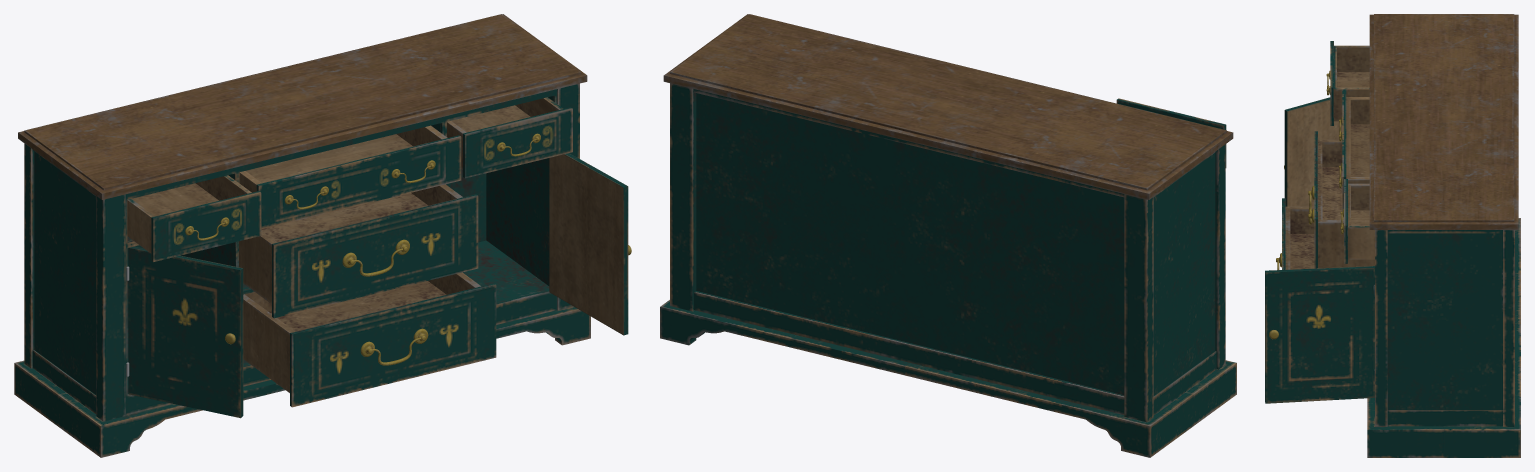
The model's file is antique_dresser.glb.
The picture shows the model from 3 angles, left to right: view 1: azimuth 30°, elevation 25°; view 2: azimuth 150°, elevation 25°; view 3: azimuth 270°, elevation 25°; orthographic projection. The views are drawn at different scales.
Visible parts, largest first — view 1: Base_low.001, Drawers_low.005, Drawers_low.003, knobs_low.001, Drawers_low.002, Cub_low.001, Bottom_low.001, Drawers_low.001, Drawers_low.004; view 2: Base_low.001, Bottom_low.001, Drawers_low.001; view 3: Base_low.001, Cub_low.001, Bottom_low.001, Drawers_low.003, knobs_low.001, Drawers_low.002, Drawers_low.001, Drawers_low.004, Drawers_low.005.
Part boxes in pixels (x1=…): Base_low.001: x1=18, y1=14, x2=587, y2=421; Drawers_low.005: x1=243, y1=272, x2=496, y2=407; Drawers_low.003: x1=239, y1=184, x2=478, y2=318; knobs_low.001: x1=128, y1=246, x2=243, y2=418; Drawers_low.002: x1=239, y1=125, x2=461, y2=229; Cub_low.001: x1=549, y1=153, x2=631, y2=335; Bottom_low.001: x1=14, y1=306, x2=590, y2=457; Drawers_low.001: x1=127, y1=175, x2=261, y2=261; Drawers_low.004: x1=447, y1=97, x2=572, y2=178; Base_low.001: x1=663, y1=14, x2=1233, y2=422; Bottom_low.001: x1=660, y1=300, x2=1236, y2=457; Drawers_low.001: x1=1116, y1=98, x2=1226, y2=167; Base_low.001: x1=1369, y1=14, x2=1518, y2=426; Cub_low.001: x1=1265, y1=266, x2=1374, y2=403; Bottom_low.001: x1=1367, y1=218, x2=1520, y2=457; Drawers_low.003: x1=1314, y1=131, x2=1374, y2=268; knobs_low.001: x1=1284, y1=97, x2=1342, y2=206; Drawers_low.002: x1=1342, y1=89, x2=1369, y2=215; Drawers_low.001: x1=1330, y1=41, x2=1369, y2=125; Drawers_low.004: x1=1344, y1=179, x2=1374, y2=263; Drawers_low.005: x1=1282, y1=198, x2=1314, y2=269.
Size of the model in its own units: 11.01 by 5.69 by 5.62.
1 material, 1 textured.
